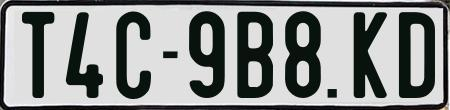4: (65, 12, 104, 98)
8: (283, 10, 321, 98)
9: (189, 10, 226, 97)
B: (235, 12, 273, 101)
C: (115, 8, 153, 97)
D: (396, 10, 433, 96)
K: (354, 11, 391, 100)
T: (21, 9, 57, 98)
